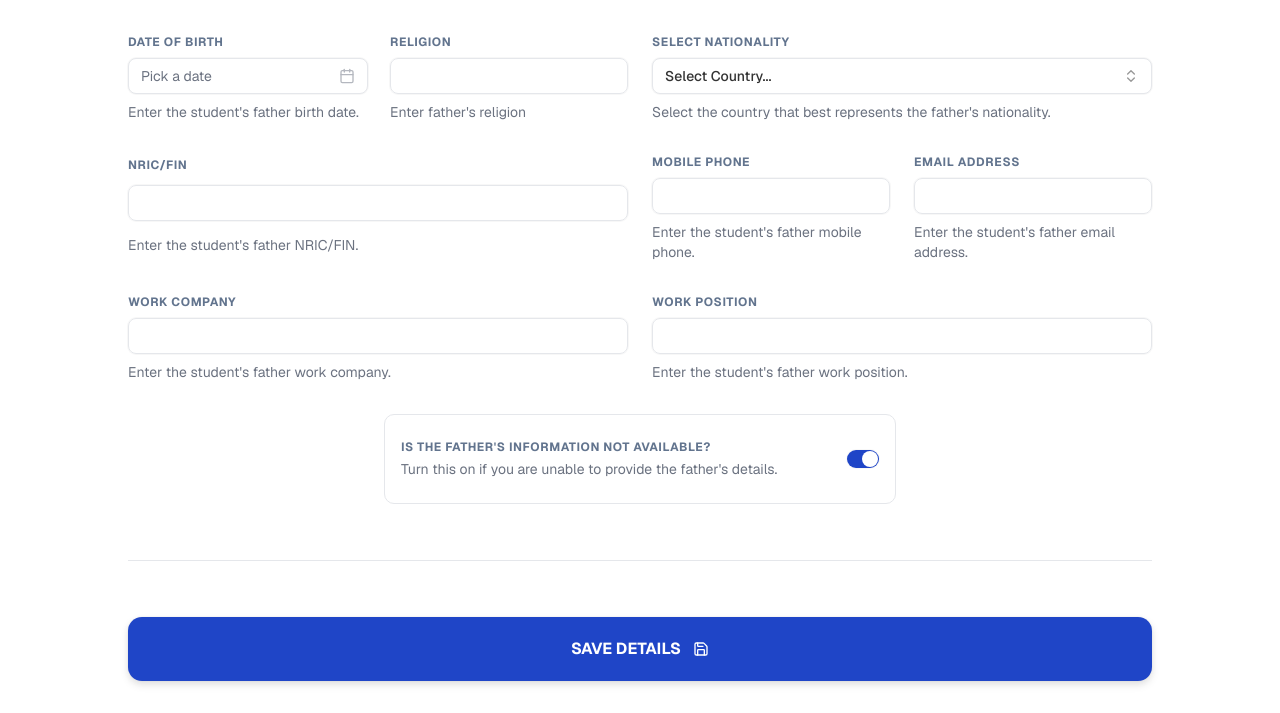
Scenario: father-information.tsx (HFSE old) › restores father info from the shared re-enrollment cache when the 'not available' toggle is switched off
(page scrolled)
Click the switch. click: {"x": 863, "y": 459}
box: [847,450,879,468]
(page scrolled)
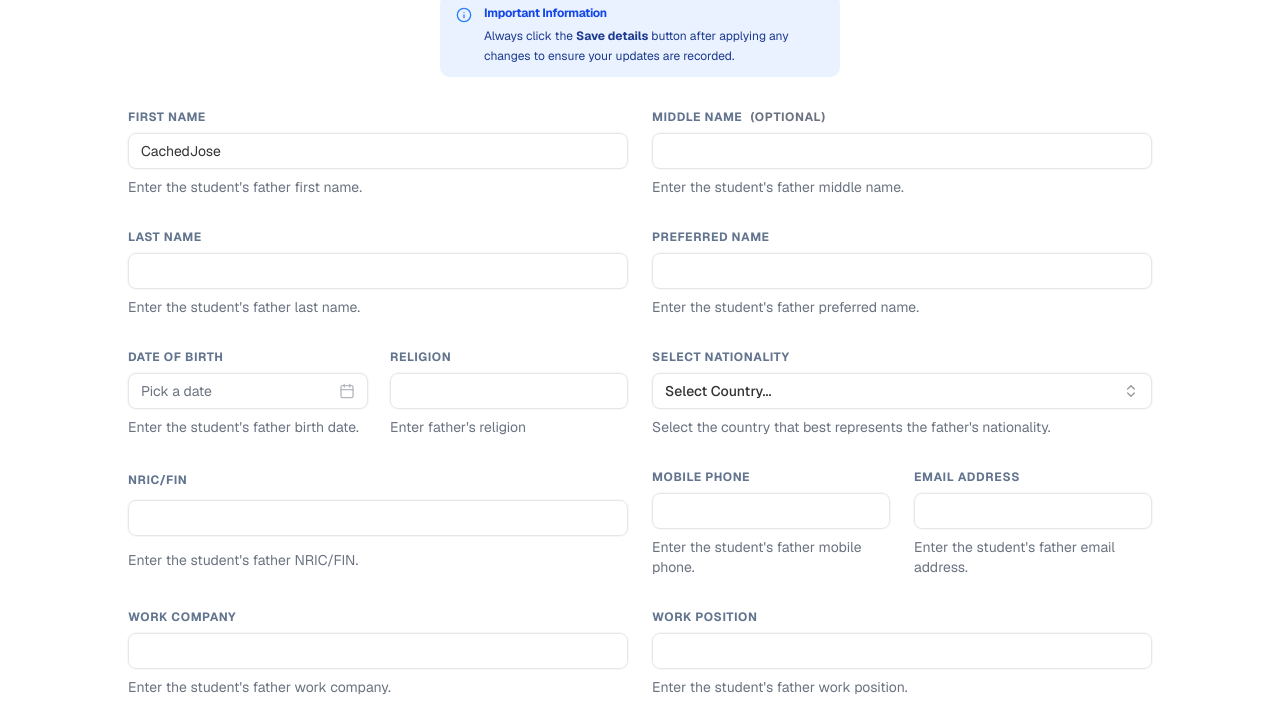
Expected: the field labelled "First name" holds "CachedJose", [128,133,628,169]
